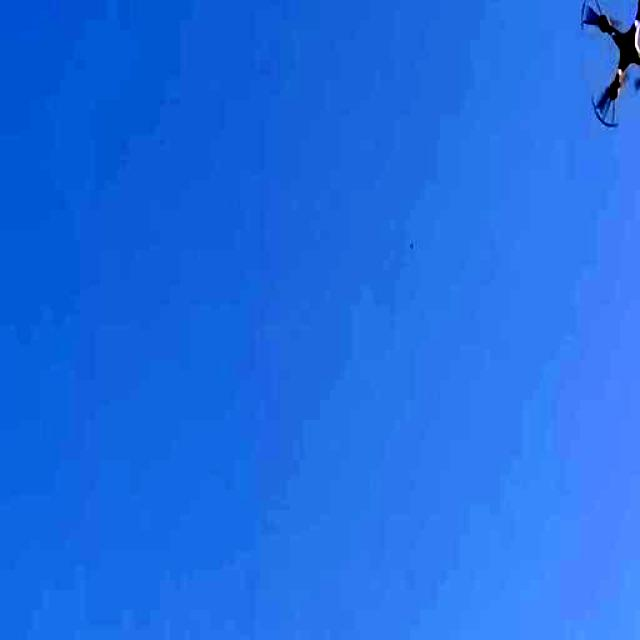bird: (570, 0, 640, 122)
